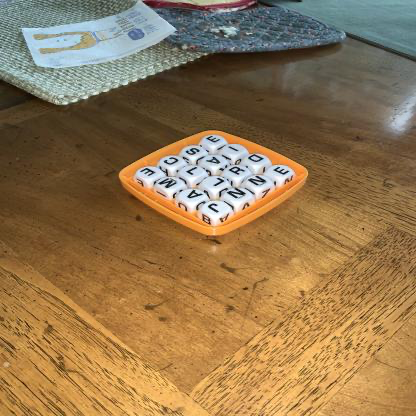a: (185, 189, 207, 202), (205, 155, 223, 167)
c: (162, 155, 181, 168)
d: (247, 153, 268, 166)
e: (139, 167, 159, 180), (273, 166, 294, 178), (204, 135, 224, 146)
i: (226, 144, 243, 155)
j: (206, 202, 225, 217)
l: (208, 177, 228, 191), (185, 166, 202, 179)
m: (157, 177, 181, 191)
n: (226, 187, 250, 202), (247, 175, 271, 189)
r: (227, 166, 248, 178)
s: (182, 145, 203, 158)
